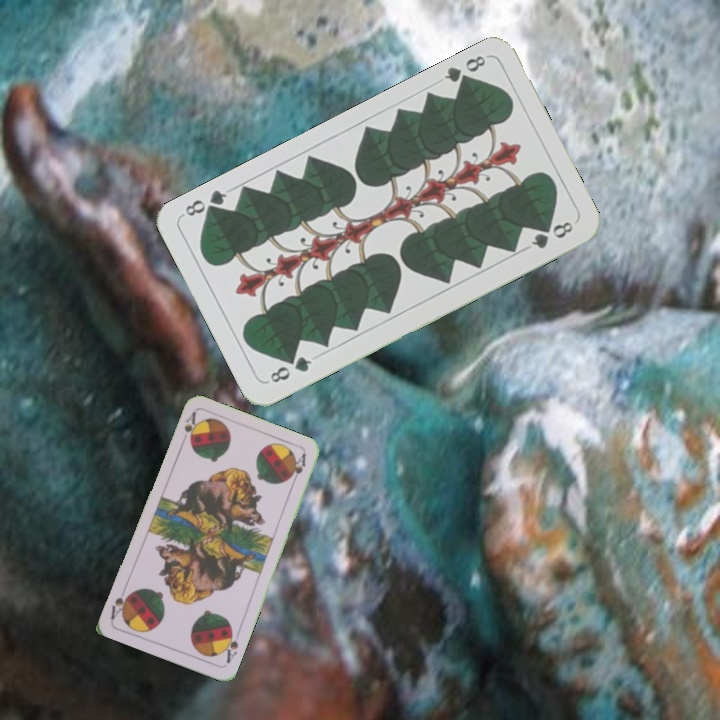G8: (440, 51, 489, 91), (266, 352, 315, 386)
SA: (219, 625, 241, 666), (177, 408, 200, 447)
